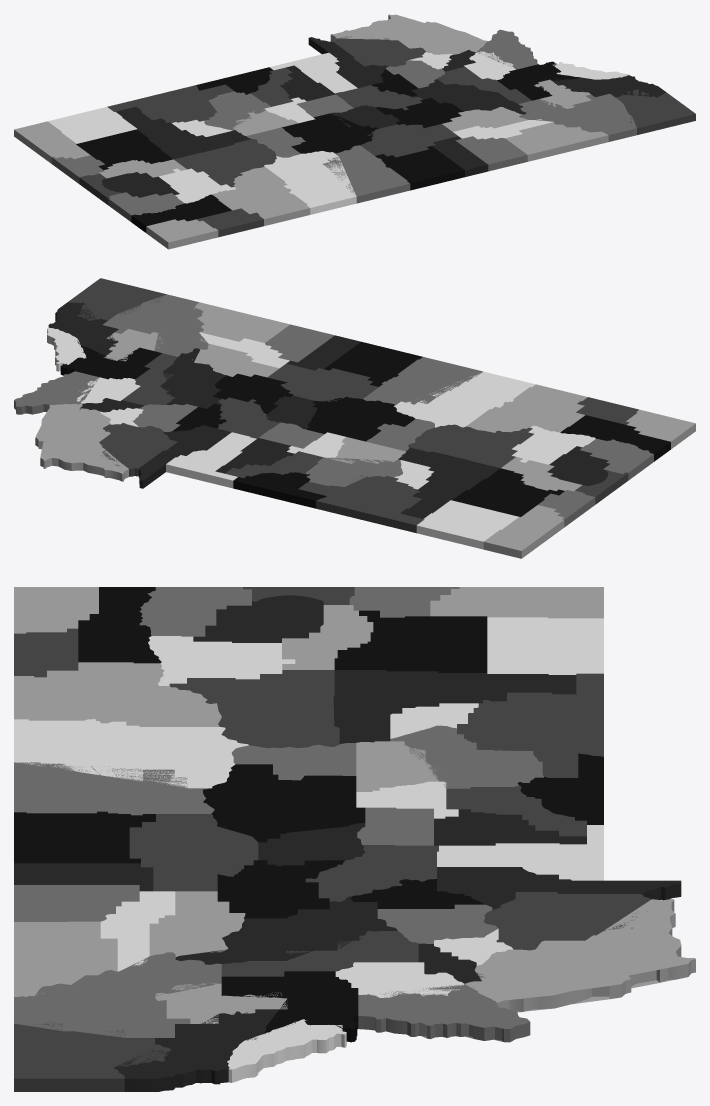
File: Montana_Counties_3D.fbx
3 views of the same model, one above another, from view 1: azimuth 30°, elevation 25°; view 2: azimuth 150°, elevation 25°; view 3: azimuth 270°, elevation 25° (orthographic). The views are drawn at different scales.
Visible parts, largest first — view 1: MT_Phillips_County_3D, MT_Beaverhead_County_3D, MT_Valley_County_3D, MT_Flathead_County_3D, MT_Blaine_County_3D, MT_Rosebud_County_3D, MT_Big_Horn_County_3D, MT_Garfield_County_3D, MT_Fergus_County_3D, MT_Glacier_County_3D, MT_Hill_County_3D, MT_Lincoln_County_3D (+44 smaller); view 2: MT_Beaverhead_County_3D, MT_Big_Horn_County_3D, MT_Phillips_County_3D, MT_Flathead_County_3D, MT_Valley_County_3D, MT_Rosebud_County_3D, MT_Garfield_County_3D, MT_Fergus_County_3D, MT_Blaine_County_3D, MT_Powder_River_County_3D, MT_Chouteau_County_3D, MT_Custer_County_3D (+44 smaller); view 3: MT_Beaverhead_County_3D, MT_Phillips_County_3D, MT_Flathead_County_3D, MT_Valley_County_3D, MT_Big_Horn_County_3D, MT_Rosebud_County_3D, MT_Garfield_County_3D, MT_Fergus_County_3D, MT_Blaine_County_3D, MT_Lincoln_County_3D, MT_Chouteau_County_3D, MT_Custer_County_3D (+44 smaller).
Part boxes in pixels (<box>): MT_Phillips_County_3D: <box>264,151,356,214</box>; MT_Beaverhead_County_3D: <box>330,14,487,54</box>; MT_Valley_County_3D: <box>212,166,310,225</box>; MT_Flathead_County_3D: <box>519,94,636,141</box>; MT_Blaine_County_3D: <box>323,145,410,203</box>; MT_Rosebud_County_3D: <box>116,107,250,159</box>; MT_Big_Horn_County_3D: <box>107,84,233,122</box>; MT_Garfield_County_3D: <box>174,139,276,187</box>; MT_Fergus_County_3D: <box>282,113,377,153</box>; MT_Glacier_County_3D: <box>505,122,608,161</box>; MT_Hill_County_3D: <box>375,146,464,190</box>; MT_Lincoln_County_3D: <box>615,89,695,134</box>; MT_Beaverhead_County_3D: <box>35,403,128,481</box>; MT_Big_Horn_County_3D: <box>298,475,424,533</box>; MT_Phillips_County_3D: <box>394,371,535,427</box>; MT_Flathead_County_3D: <box>103,294,208,356</box>; MT_Valley_County_3D: <box>466,384,587,432</box>; MT_Rosebud_County_3D: <box>398,447,500,518</box>; MT_Garfield_County_3D: <box>408,424,533,467</box>; MT_Fergus_County_3D: <box>306,396,415,441</box>; MT_Blaine_County_3D: <box>363,357,482,406</box>; MT_Powder_River_County_3D: <box>416,500,518,549</box>; MT_Chouteau_County_3D: <box>267,363,378,401</box>; MT_Custer_County_3D: <box>452,468,564,516</box>; MT_Beaverhead_County_3D: <box>465,899,695,1012</box>; MT_Phillips_County_3D: <box>14,719,248,788</box>; MT_Flathead_County_3D: <box>14,952,221,1037</box>; MT_Valley_County_3D: <box>14,662,221,726</box>; MT_Big_Horn_County_3D: <box>457,673,603,777</box>; MT_Rosebud_County_3D: <box>333,670,576,744</box>; MT_Garfield_County_3D: <box>169,670,339,748</box>; MT_Fergus_County_3D: <box>202,764,365,842</box>; MT_Blaine_County_3D: <box>14,762,214,815</box>; MT_Lincoln_County_3D: <box>14,1021,170,1091</box>; MT_Chouteau_County_3D: <box>129,814,258,891</box>; MT_Custer_County_3D: <box>334,610,487,672</box>.
Size of the model in its own units: 793 by 10 by 465.
